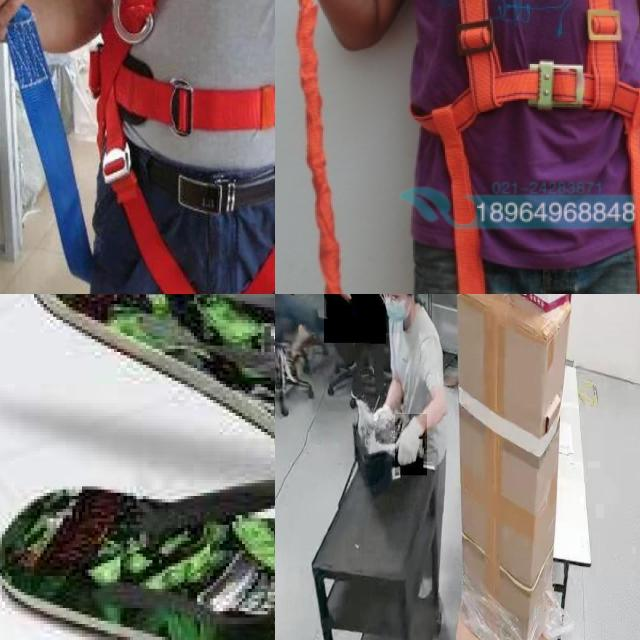Harness: (393, 0, 640, 294), (404, 0, 638, 122), (169, 0, 275, 168)
Sandals: (0, 294, 275, 640)
face_mask: (380, 294, 411, 333)
hand_glove: (395, 414, 427, 476)
person: (369, 294, 449, 478), (324, 294, 386, 343)
